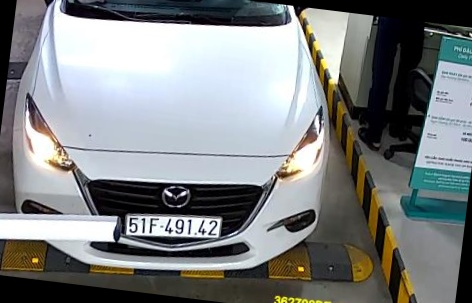plate: (122, 212, 222, 241)
